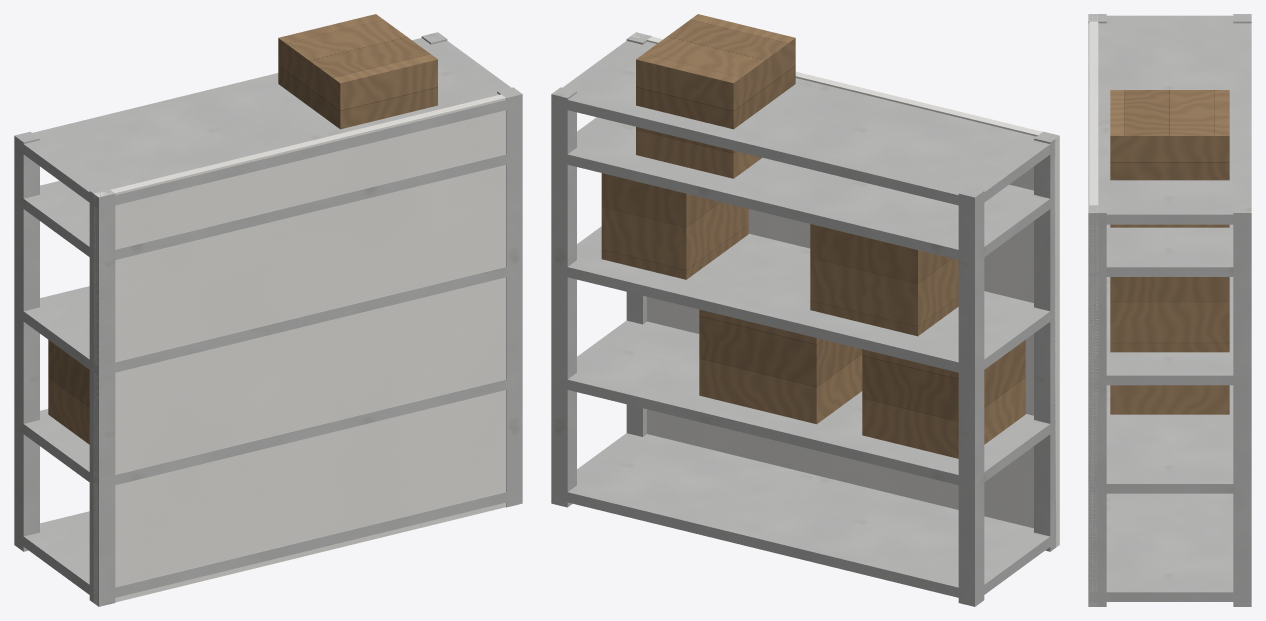
Rendered from rack.gltf.
3 views of the same model, side by side, from view 1: azimuth 30°, elevation 25°; view 2: azimuth 150°, elevation 25°; view 3: azimuth 270°, elevation 25° (orthographic). The views are drawn at different scales.
Visible parts, largest first — view 1: jx_rack; view 2: jx_rack; view 3: jx_rack.
Boxes of the visible parts, box(x1,y1,x2,y2) form: jx_rack: box(14, 14, 522, 606); jx_rack: box(551, 14, 1059, 606); jx_rack: box(1088, 14, 1251, 606).
Bounding box in the file's own units: 2.6 × 2.66 × 0.9.
3 materials, 3 textured.
